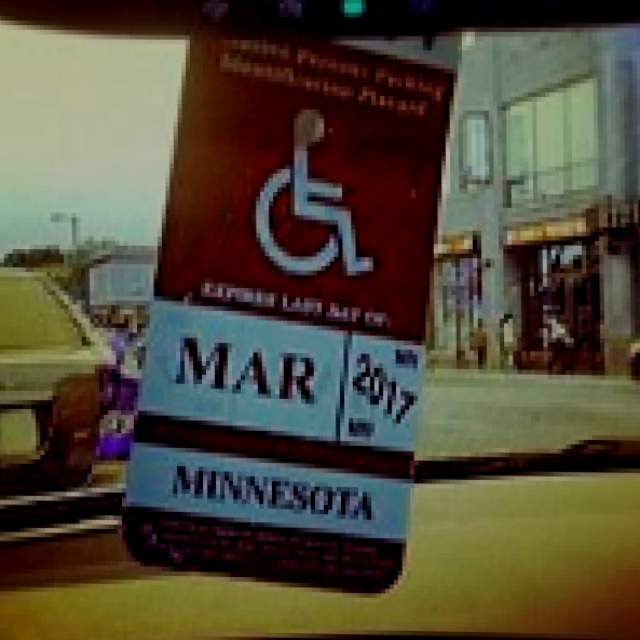ISA: (249, 98, 385, 284)
